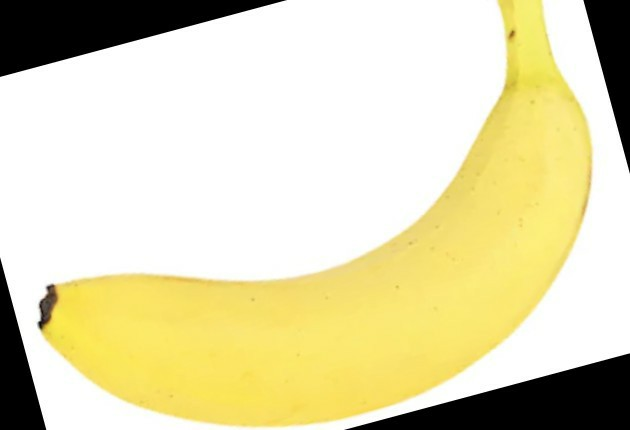fresh_banana: (42, 11, 592, 430)
